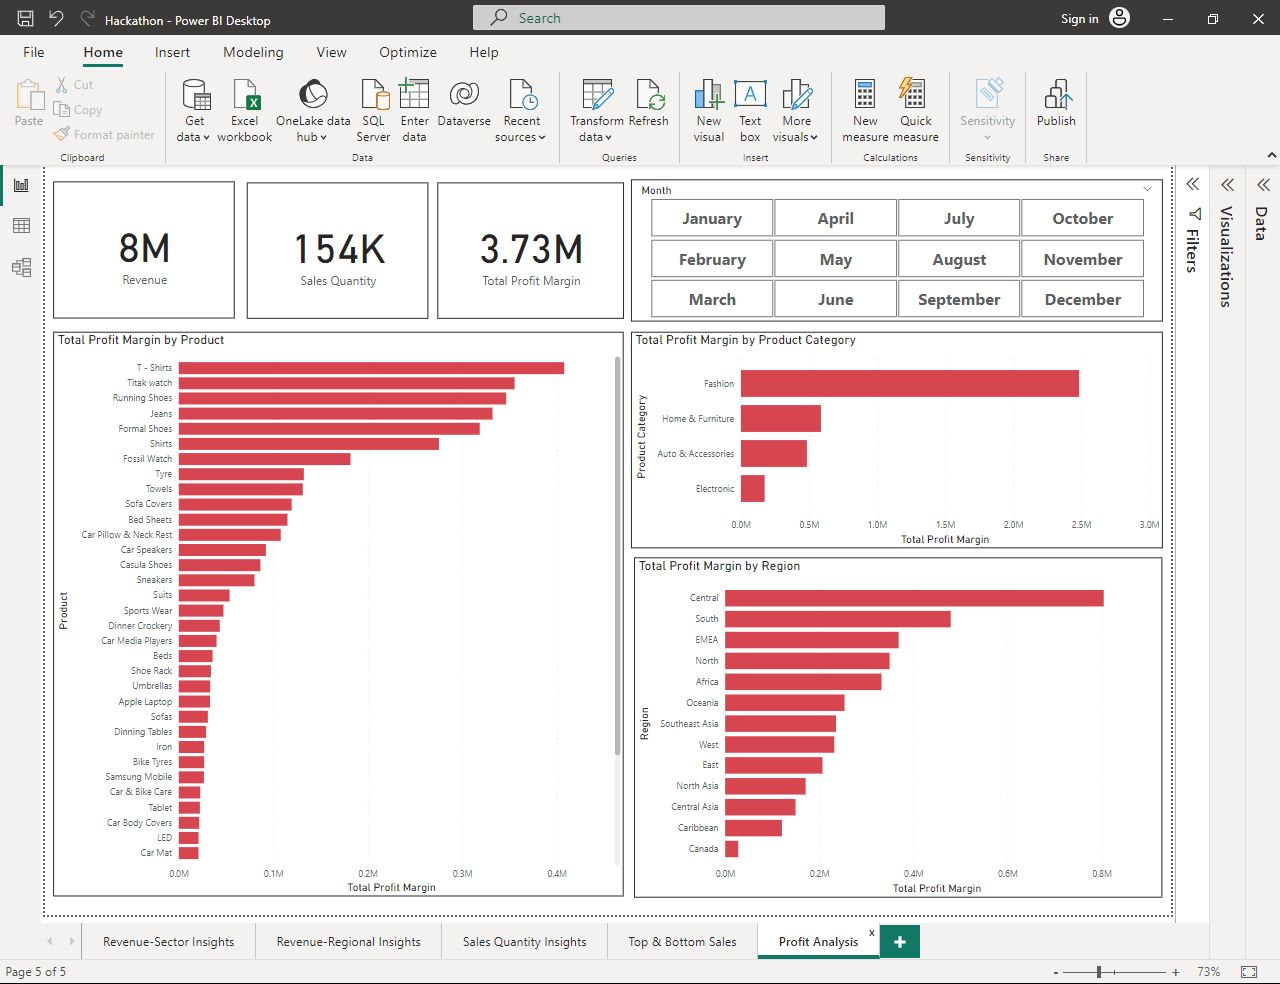

The page's visual inventory and layout, read from the dashboard file:
{"tool":"powerbi","page":{"name":"Profit Analysis","canvas":[1500,1000],"ordinal":4},"visuals":[{"type":"barChart","fields":{"Y":["BaseMeasures.Total Profit Margin"],"Category":["Sales.Product Category"]},"box":[829.2,219.7,665.9,274.6],"z":0},{"type":"barChart","fields":{"Y":["BaseMeasures.Total Profit Margin"],"Category":["Sales.Product"]},"box":[11,219.7,810,770.2],"z":1000},{"type":"barChart","fields":{"Y":["BaseMeasures.Total Profit Margin"],"Category":["Sales.Region"]},"box":[829.2,499.7,665.9,490.1],"z":2000},{"type":"slicer","title":"Revenue by Months","fields":{"Values":["Sales.Order Date.Variation.Date Hierarchy.Month"]},"box":[829.2,19.2,665.9,192.2],"z":3000},{"type":"card","fields":{"Values":["BaseMeasures.Revenue"]},"box":[11,17.3,248.2,191.7],"z":4000},{"type":"card","fields":{"Values":["BaseMeasures.Sales Quantity"]},"box":[271.8,17.3,268.6,191.7],"z":5000},{"type":"card","fields":{"Values":["BaseMeasures.Total Profit Margin"]},"box":[559.3,18.9,262.4,190.1],"z":6000}]}

Visuals, with their boxes on the page's 1500x1000 design canvas (x1, y1, x2, y2). These are canvas units, not pixel positions in the 1280x984 screenshot, which may show the page scaled, cropped or inside an application window:
barChart - BaseMeasures.Total Profit Margin x Sales.Product Category: [x1=829, y1=220, x2=1495, y2=494]
barChart - BaseMeasures.Total Profit Margin x Sales.Product: [x1=11, y1=220, x2=821, y2=990]
barChart - BaseMeasures.Total Profit Margin x Sales.Region: [x1=829, y1=500, x2=1495, y2=990]
"Revenue by Months" slicer: [x1=829, y1=19, x2=1495, y2=211]
card - BaseMeasures.Revenue: [x1=11, y1=17, x2=259, y2=209]
card - BaseMeasures.Sales Quantity: [x1=272, y1=17, x2=540, y2=209]
card - BaseMeasures.Total Profit Margin: [x1=559, y1=19, x2=822, y2=209]
